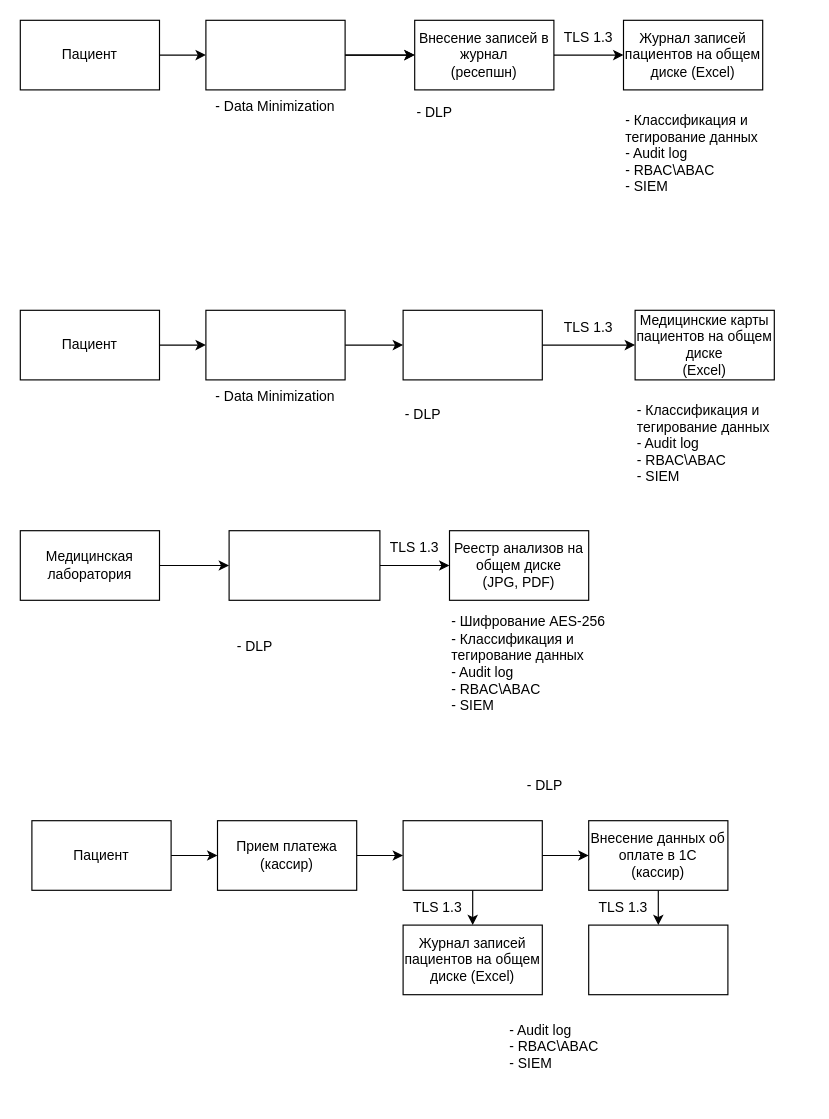
Image size: 829x1119. Some labels were removed from this diagram. The centre of each missing label's shape, as x and y in pixels:
1С Бухгалтерия (файловой режим): point (658, 959)
Внесение данных в медицинскую карту (врач): point (472, 344)
Внесение данных об оплате в Excel (кассир): point (472, 855)
Обработка заявки на запись (ресепшен): point (275, 54)
Сбор анамнеза и жалоб, назначение диагностики (врач): point (275, 344)
Сохранение результатов диагностики\анализов (мед. сотрудник): point (304, 565)
